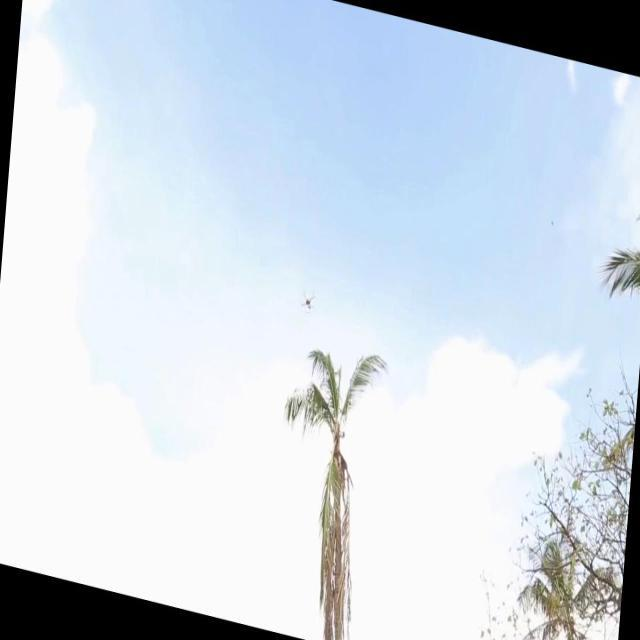drone: (298, 282, 318, 312)
